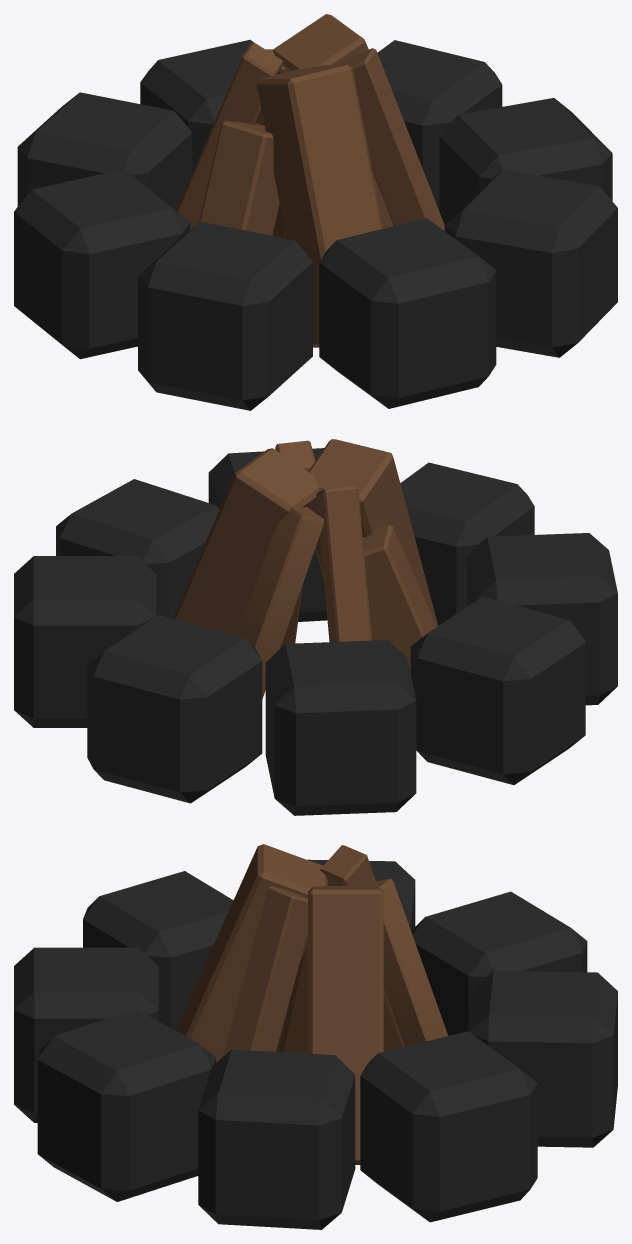
Rendered from Campfire.fbx.
3 renders of one model, top to bottom at view 1: azimuth 30°, elevation 25°; view 2: azimuth 150°, elevation 25°; view 3: azimuth 270°, elevation 25°, orthographic.
Parts seen in each view (by area): view 1: Plane.055; view 2: Plane.055; view 3: Plane.055.
Part boxes in pixels (left/top/right/bottom): Plane.055: left=14, top=14, right=617, bottom=410; Plane.055: left=14, top=439, right=617, bottom=815; Plane.055: left=14, top=844, right=617, bottom=1229.
Bounding box in the file's own units: 838 × 388 × 835.
